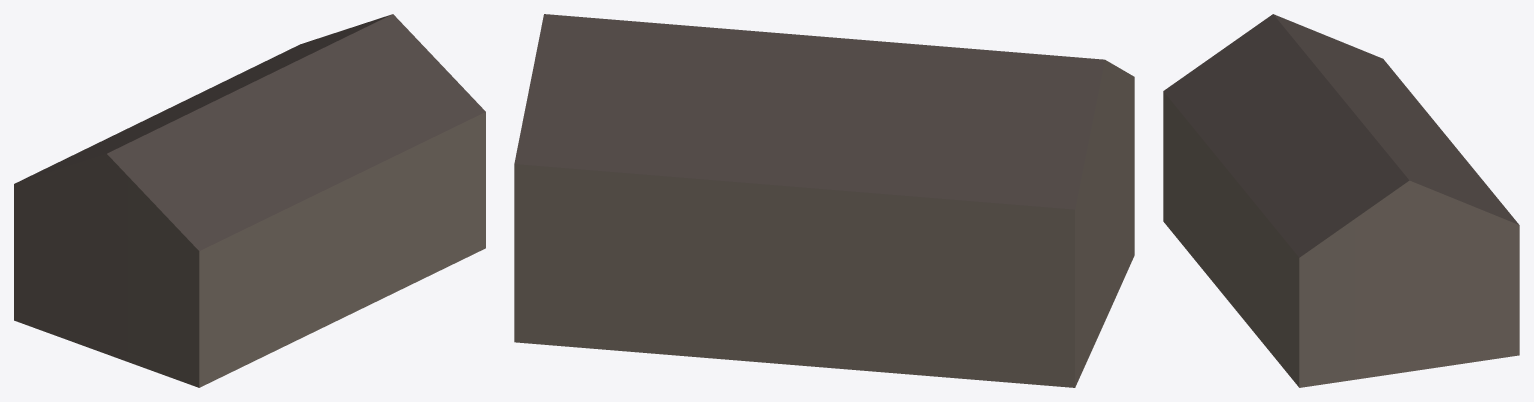
The picture shows the model from 3 angles, left to right: view 1: azimuth 30°, elevation 25°; view 2: azimuth 150°, elevation 25°; view 3: azimuth 270°, elevation 25°; orthographic projection. The views are drawn at different scales.
Parts seen in each view (by area): view 1: HP-w1198645040; view 2: HP-w1198645040; view 3: HP-w1198645040.
Boxes of the visible parts, <box> form: HP-w1198645040: <box>14,14,485,387</box>; HP-w1198645040: <box>514,14,1134,387</box>; HP-w1198645040: <box>1163,14,1519,387</box>.
Bounding box in the file's own units: 19.68 × 8.81 × 14.89.
